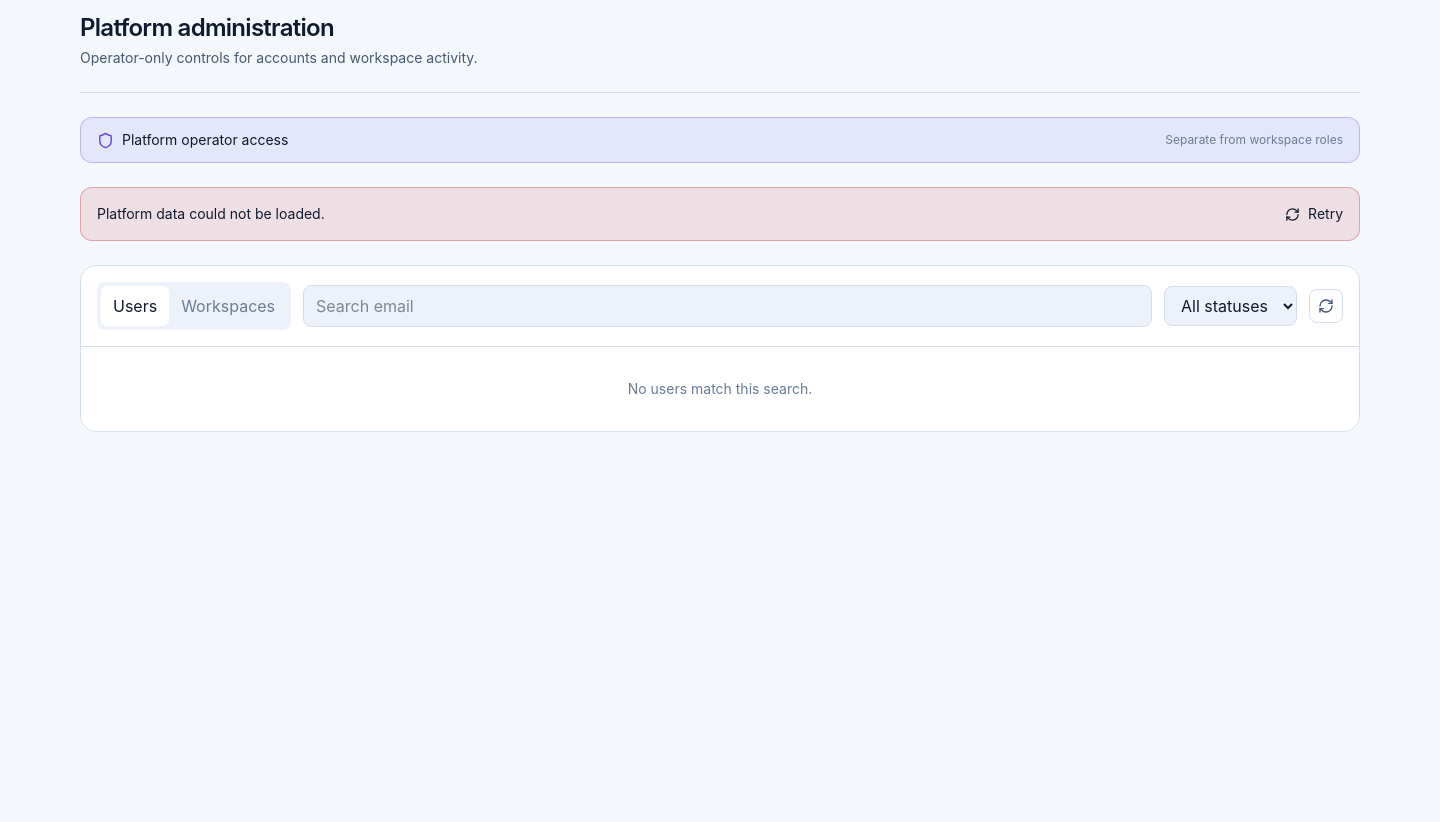
Scenario: PlatformAdminPage › shows an error and retries loading platform data
This screenshot has width=1440, height=822.
Expected: the message shows "could not be loaded", [97, 205, 325, 222]
Click the button "Retry" at (1314, 214), box [1285, 204, 1343, 224]
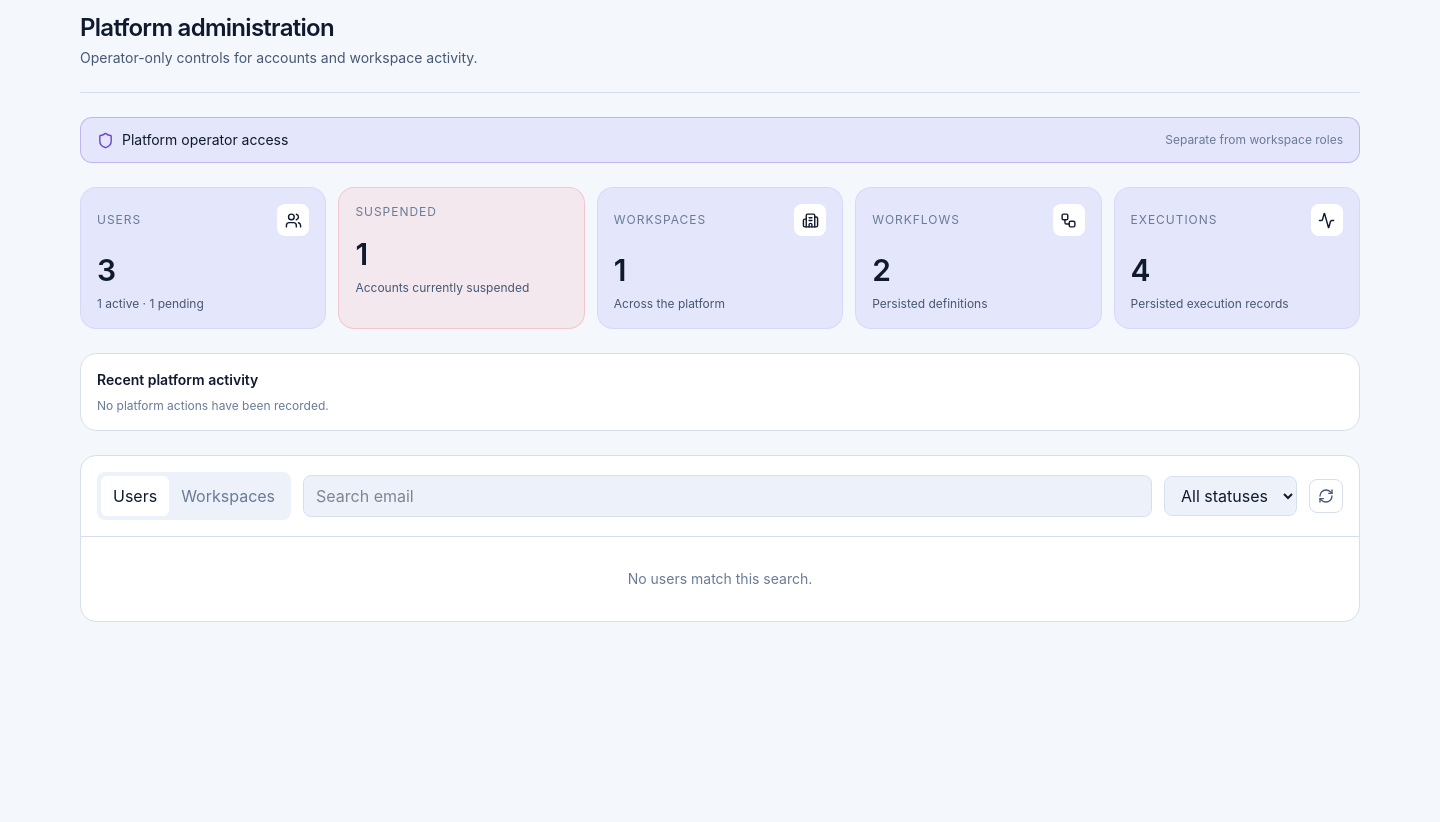
Expected: the heading "Recent platform activity" is shown, [97, 371, 258, 388]
